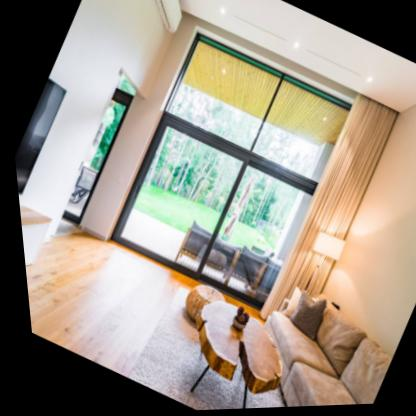Curtains: (255, 97, 396, 320)
TV stand: (16, 205, 49, 267)
Window: (87, 25, 365, 319)
